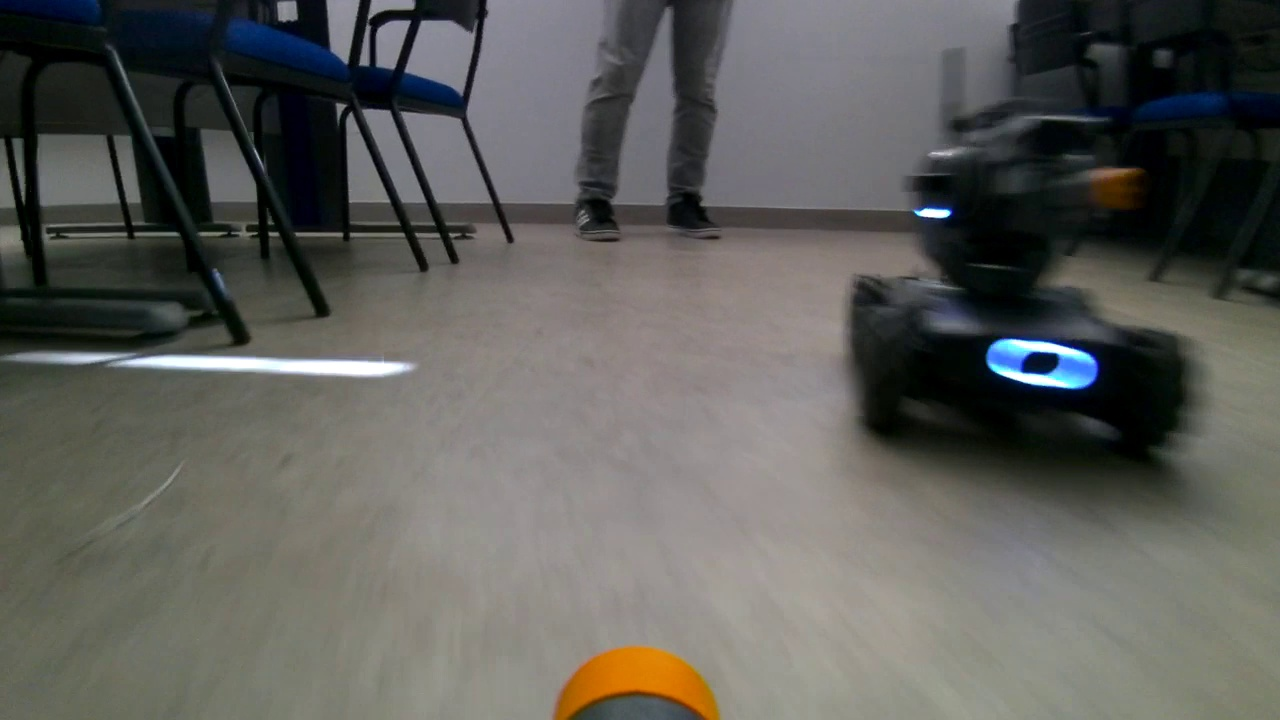robot: (800, 45, 1229, 470)
